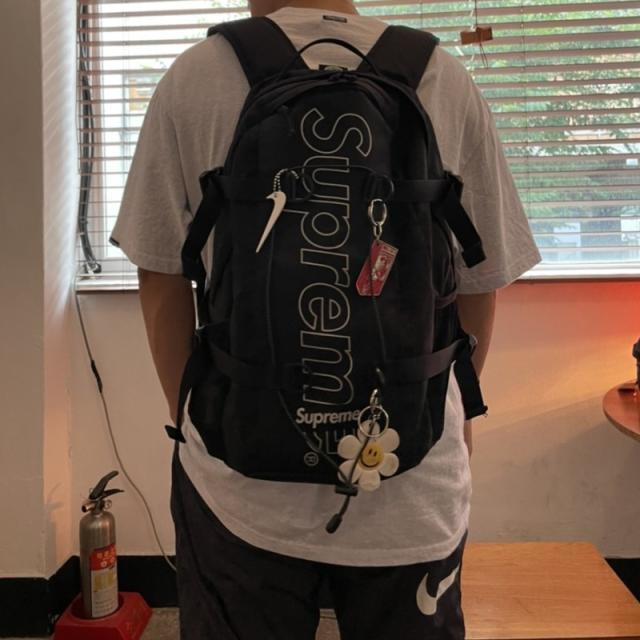backpack: (168, 59, 479, 497)
